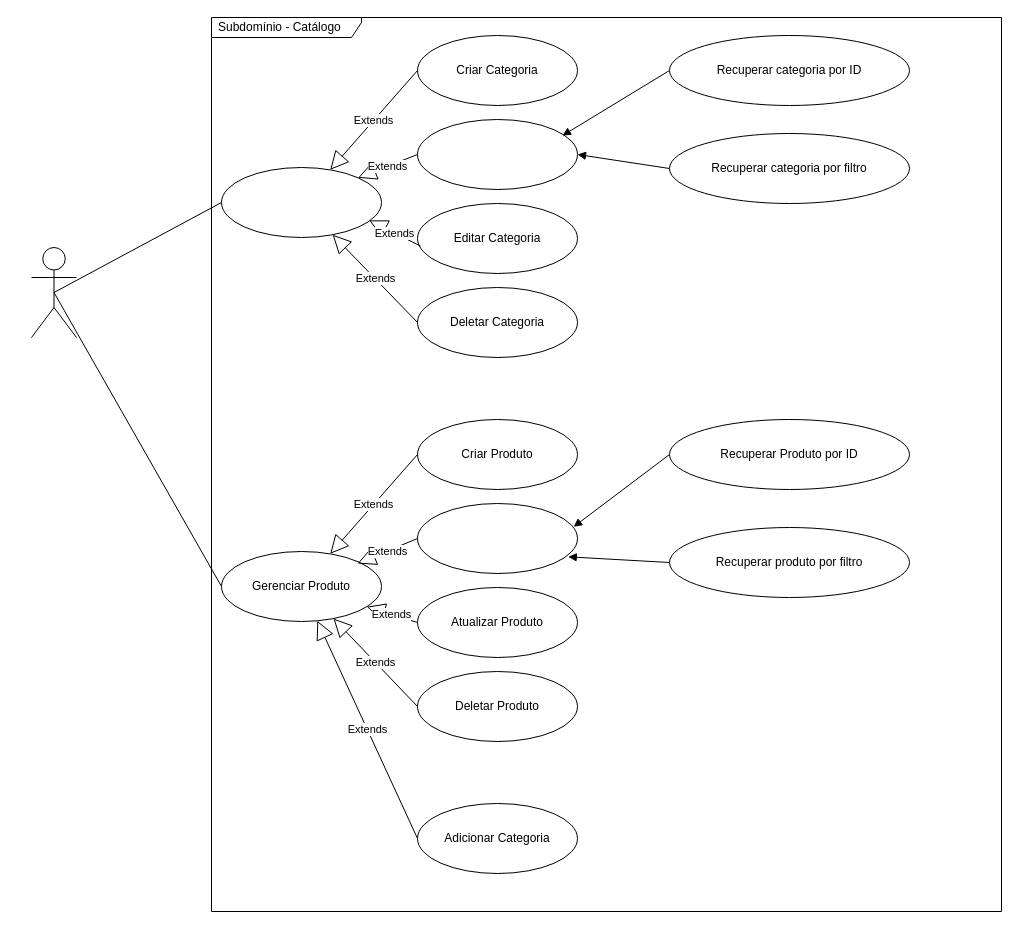
Image size: 1019x929. Some labels were removed from this diagram. Here are the shapes that lost their labels. From the top down, the centre of each, then its label:
pixel 497 154: Recuperar Categoria
pixel 301 202: Gerenciar Categoria
pixel 53 292: Administrador
pixel 497 538: Recuperar Produto
